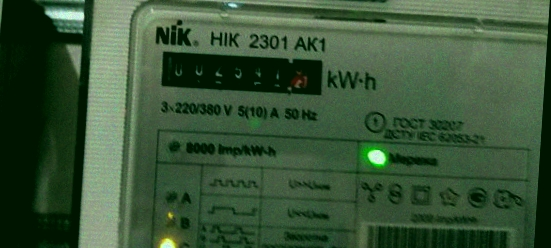0: (171, 56, 185, 78), (192, 55, 205, 77)
1: (270, 61, 283, 82)
2: (212, 58, 225, 78)
4: (251, 59, 265, 81)
5: (230, 58, 244, 80)
6: (292, 75, 304, 90)
screen: (149, 40, 334, 105)
